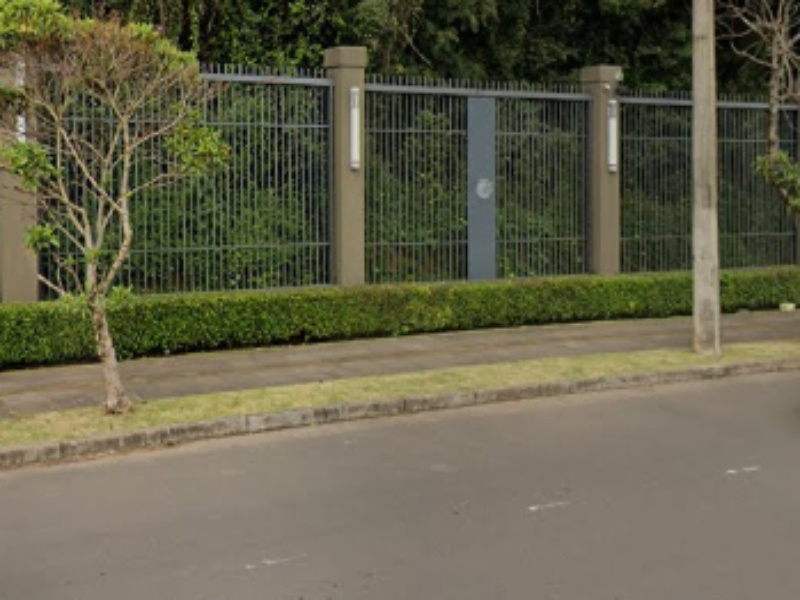v22: (3, 304, 788, 493)
